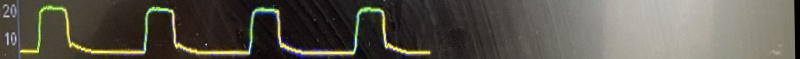normal_pressure: (24, 2, 436, 59)
